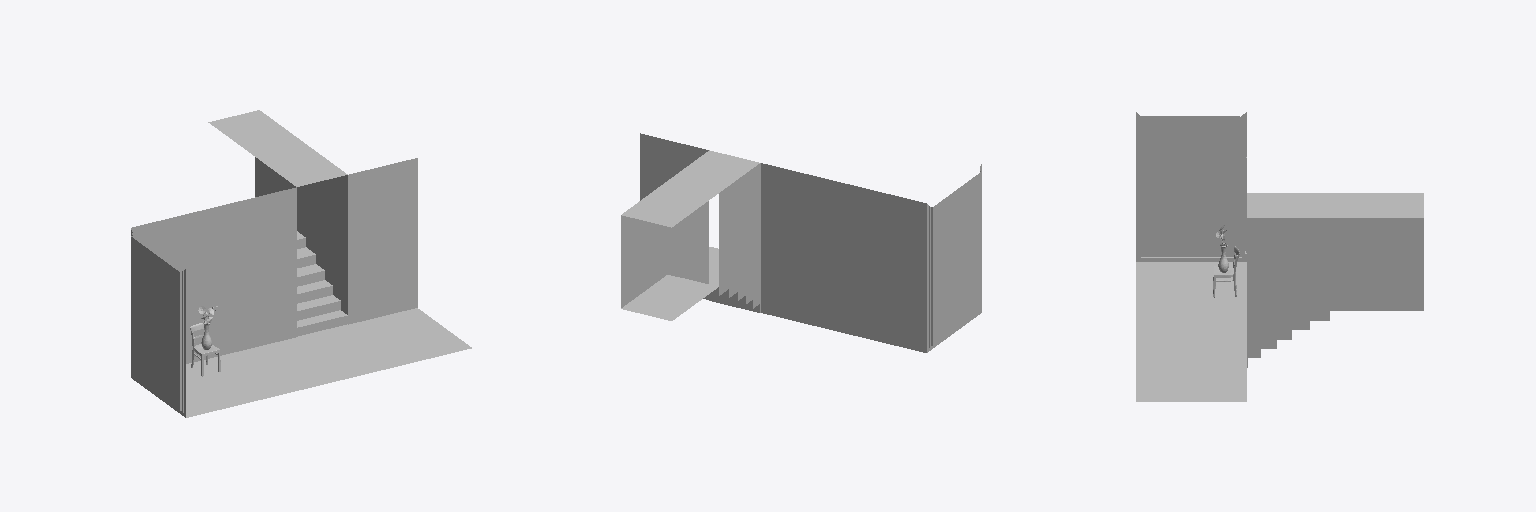
The picture shows the model from 3 angles: view 1: azimuth 30°, elevation 25°; view 2: azimuth 150°, elevation 25°; view 3: azimuth 270°, elevation 25°; orthographic projection.
Parts seen in each view (by area): view 1: 平面.002, 平面.003, 平面.004, 平面.005, 平面.001; view 2: 平面.002, 平面.004, 平面.005, 平面.001; view 3: 平面.004, 平面.003, 平面.005, 平面.001.
Part boxes in pixels (bbox=[...]): 平面.002: bbox=[131, 158, 417, 363]; 平面.003: bbox=[186, 308, 471, 417]; 平面.004: bbox=[208, 110, 347, 336]; 平面.005: bbox=[131, 237, 179, 410]; 平面.001: bbox=[131, 230, 185, 417]; 平面.002: bbox=[640, 133, 926, 352]; 平面.004: bbox=[621, 150, 760, 320]; 平面.005: bbox=[933, 172, 981, 344]; 平面.001: bbox=[927, 164, 981, 352]; 平面.004: bbox=[1247, 193, 1423, 367]; 平面.003: bbox=[1136, 262, 1246, 401]; 平面.005: bbox=[1142, 116, 1239, 254]; 平面.001: bbox=[1136, 112, 1246, 261].
Size of the model in its own units: 6.06 by 3 by 5.21.